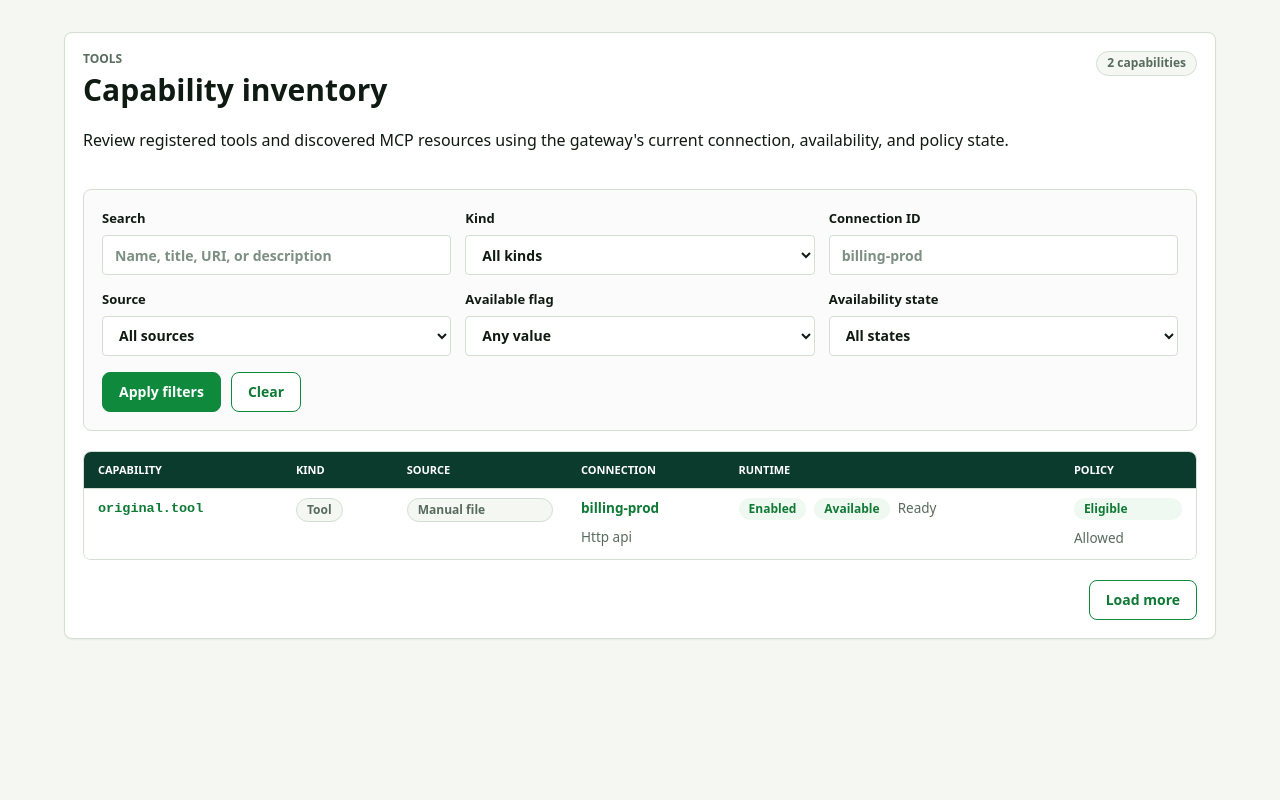
CapabilityInventoryView › discards a stale cursor and refreshes page one after a 412
expect the link "original.tool" is shown: met, box [98,501,203,516]
Click the button "Load more" at point(1143, 600), box [1089,580,1197,620]
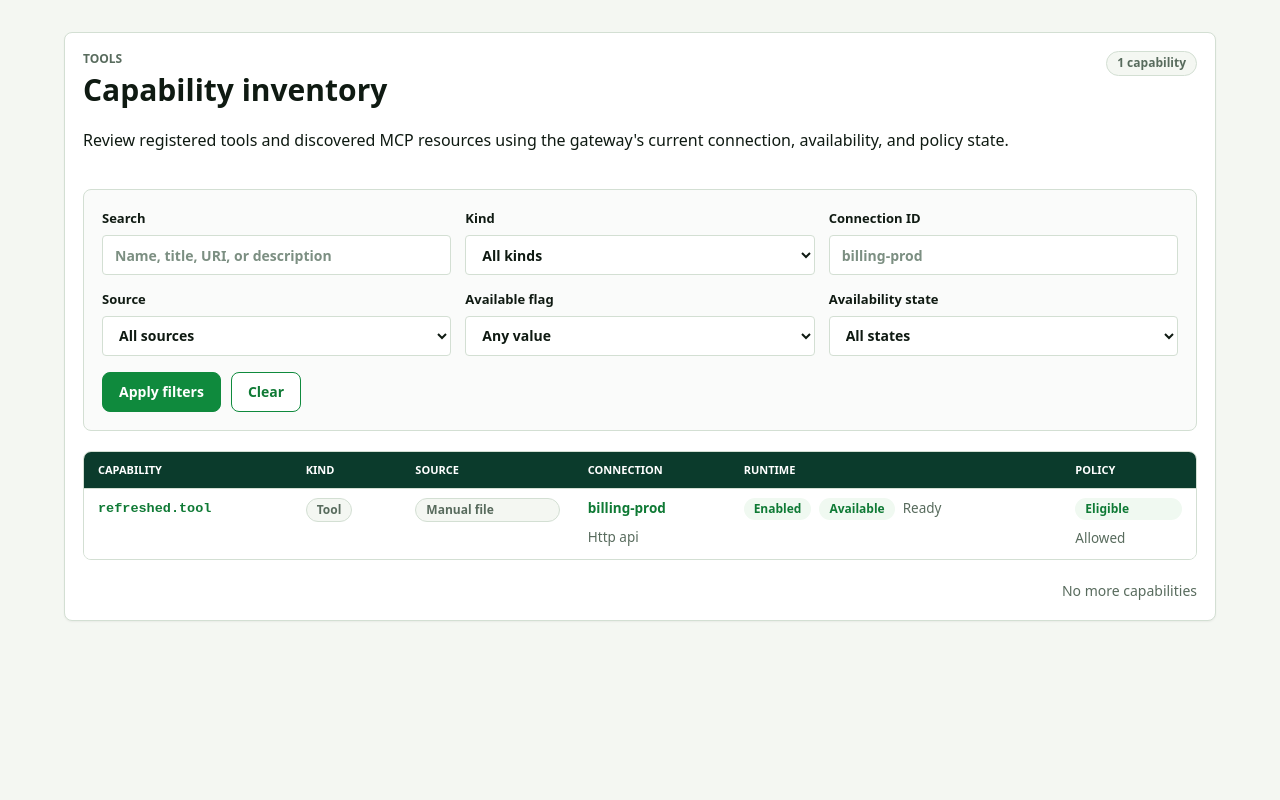
expect the link "refreshed.tool" is shown: met, box [98,501,211,516]
expect the link "original.tool" is gone: met
